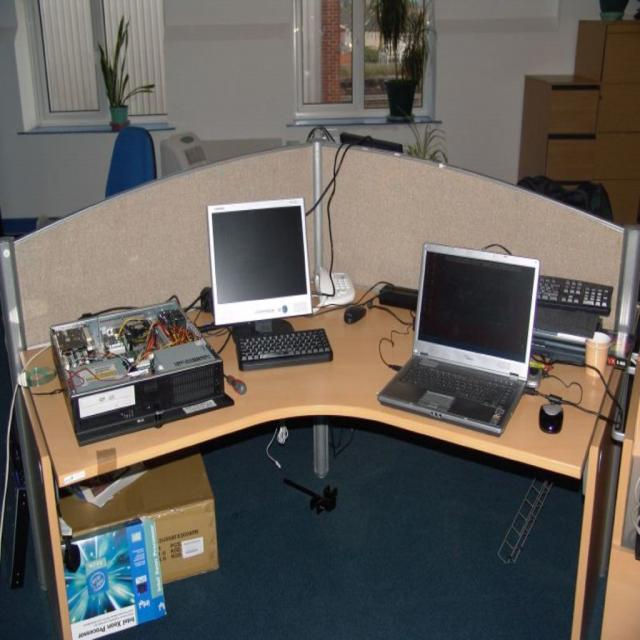desk: (24, 288, 622, 634)
keyboard: (232, 329, 332, 368)
laptop: (376, 243, 540, 435)
mouse: (538, 404, 564, 434), (343, 305, 366, 324)
tv: (206, 198, 312, 326)
